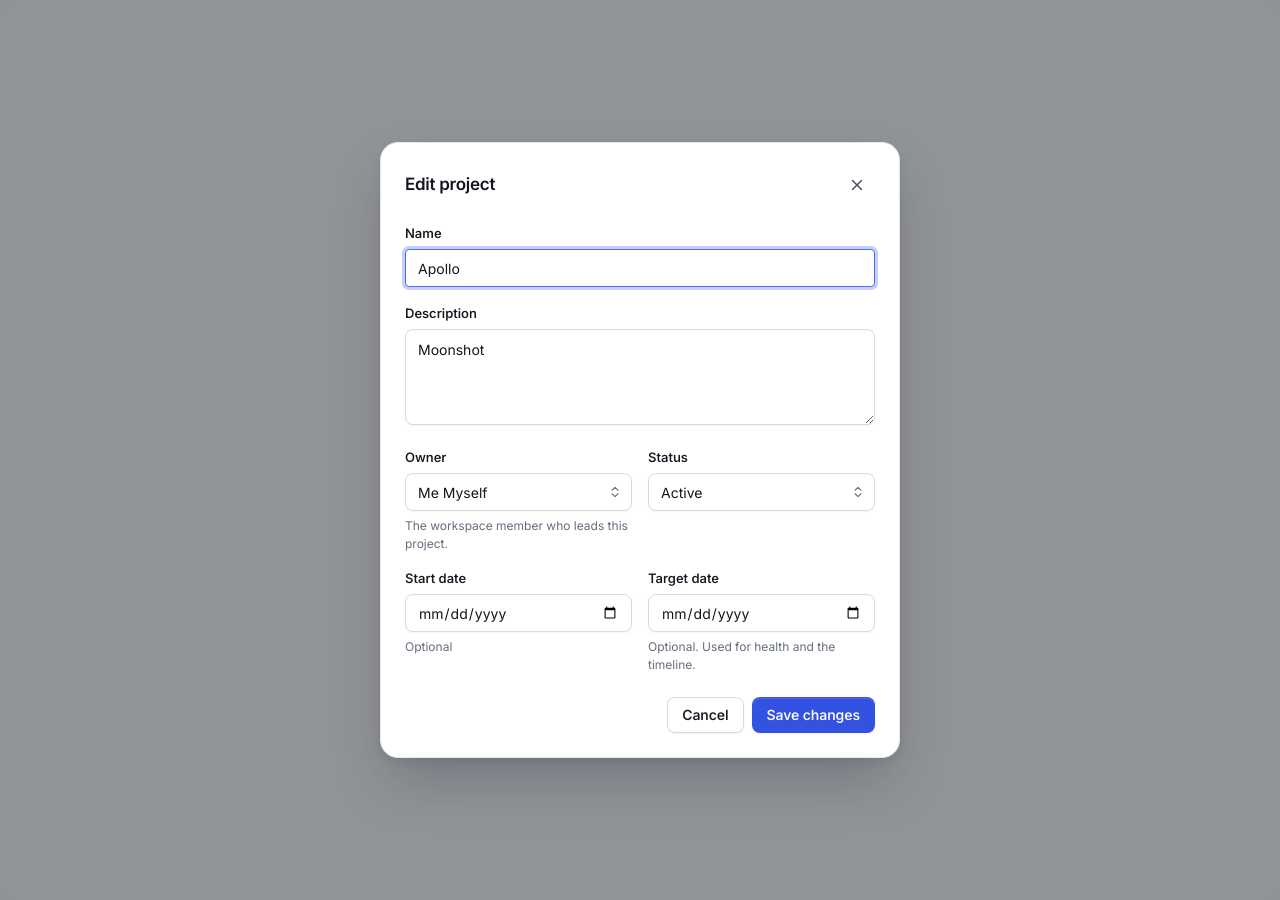
it: ProjectFormModal owner selection › shows the backend rejection of an ineligible owner
Select "Lena Lead" in the dropdown labelled "Owner": (518, 492) top-left (405, 473), bottom-right (632, 511)
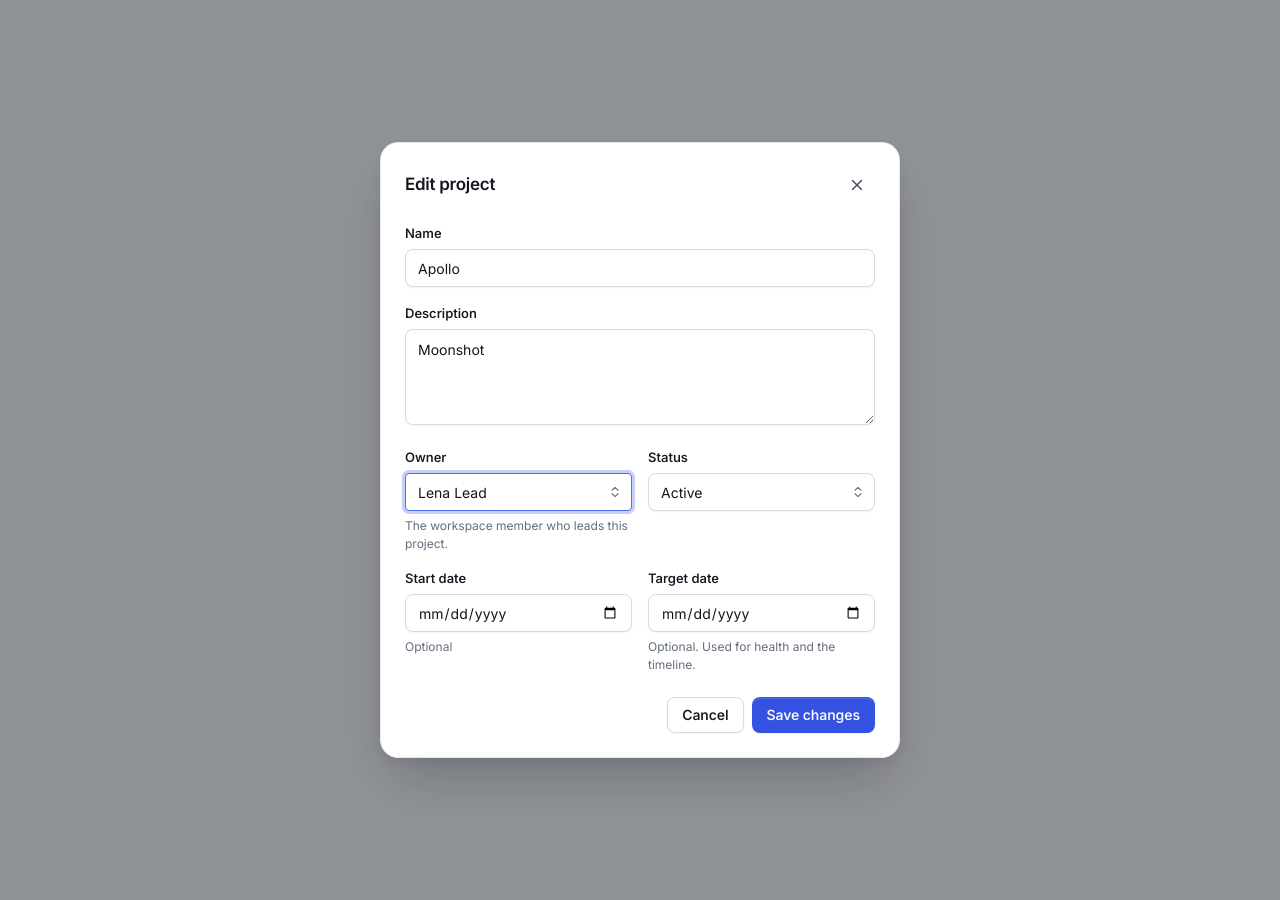
Click the button "Save changes": (813, 715) top-left (752, 697), bottom-right (875, 733)
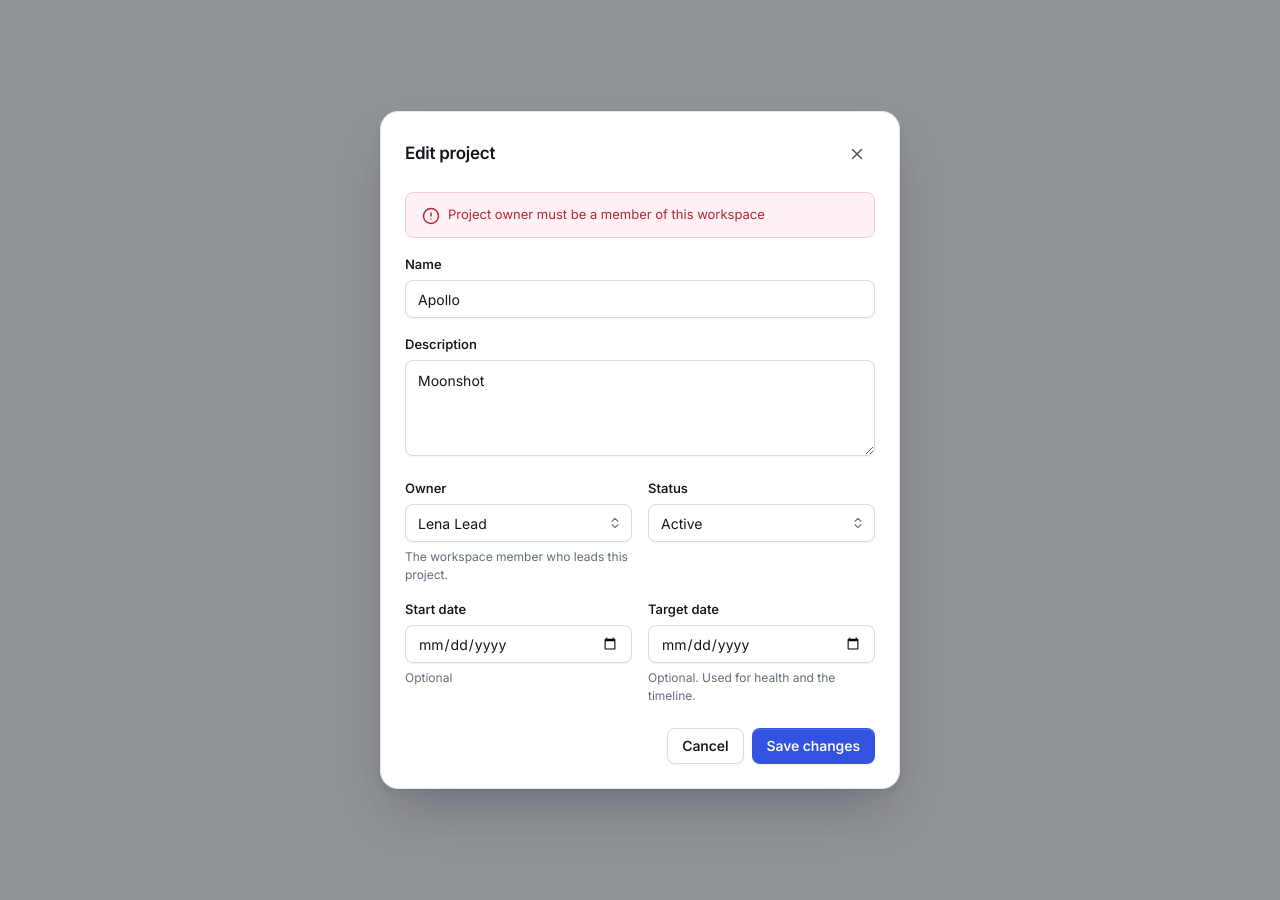
Now the text "Project owner must be a member of this workspace" is shown, box top-left (448, 205), bottom-right (765, 225)
